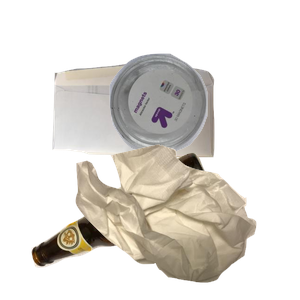glass: (29, 150, 238, 300)
paper: (50, 61, 257, 211)
plastic: (107, 51, 300, 199)
trash: (73, 142, 300, 300)
